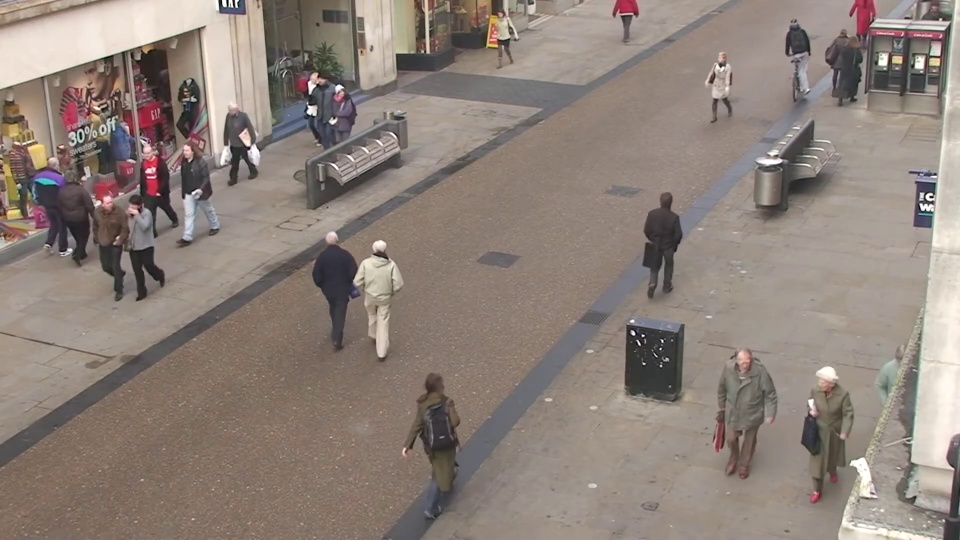pedestrian: (788, 363, 848, 525), (710, 348, 765, 505), (418, 355, 471, 511), (79, 192, 130, 306), (110, 194, 159, 307), (360, 227, 404, 352), (316, 218, 360, 341), (56, 162, 106, 267), (39, 150, 89, 252), (649, 182, 687, 296), (125, 141, 168, 240), (164, 142, 205, 243), (214, 101, 249, 190), (912, 0, 950, 74), (322, 84, 353, 169), (305, 73, 336, 156), (836, 30, 869, 107), (296, 70, 326, 152), (826, 23, 858, 98), (704, 48, 732, 126), (779, 13, 807, 83), (488, 6, 511, 71)
